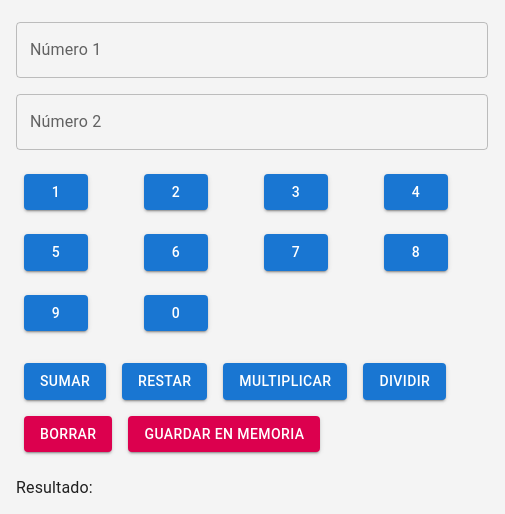
Scenario: Calculator › should add numbers correctly
Haz clic en el primer campo de texto y luego en los botones para introducir el primer número
Click the field named "input1" at x=252, y=50, box [16, 22, 488, 78]
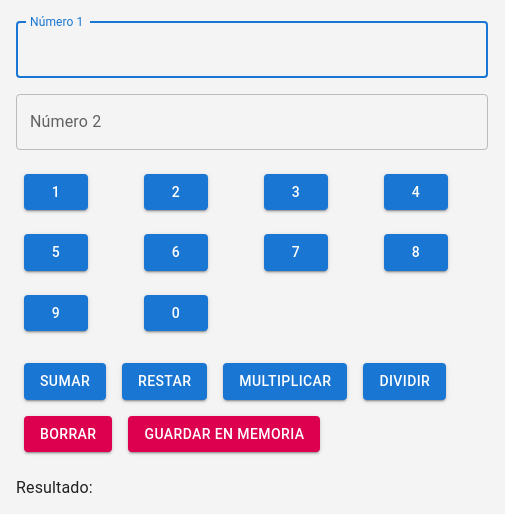
Click the button "1" at x=56, y=193, box [24, 174, 88, 211]
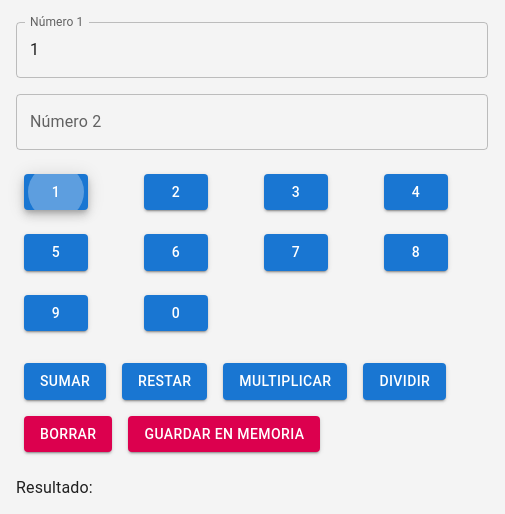
Haz clic en el segundo campo de texto y luego en los botones para introducir el segundo número
Click the field named "input2" at x=252, y=122, box [16, 94, 488, 150]
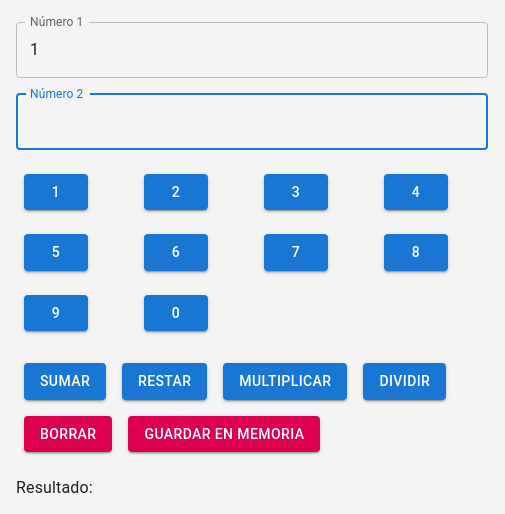
Click the button "2" at x=176, y=193, box [144, 174, 208, 211]
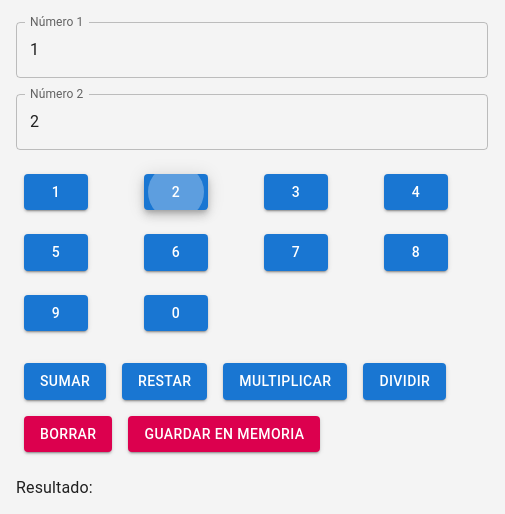
Haz clic en el botón para sumar
Click the button "Sumar" at x=65, y=382, box [24, 363, 106, 400]
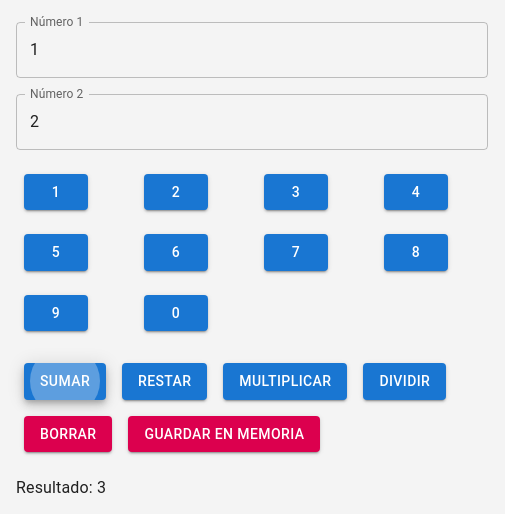
Now the text "Resultado: 3" is shown, box [16, 478, 106, 497]
